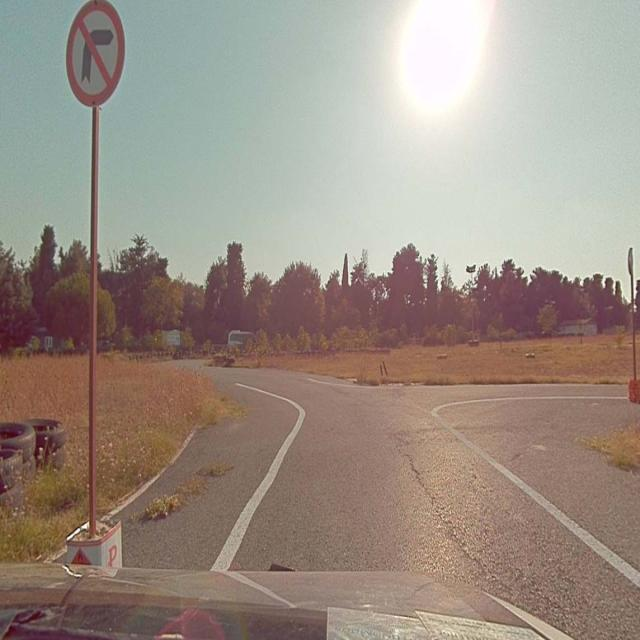sagadonulmez: (66, 1, 126, 107)
